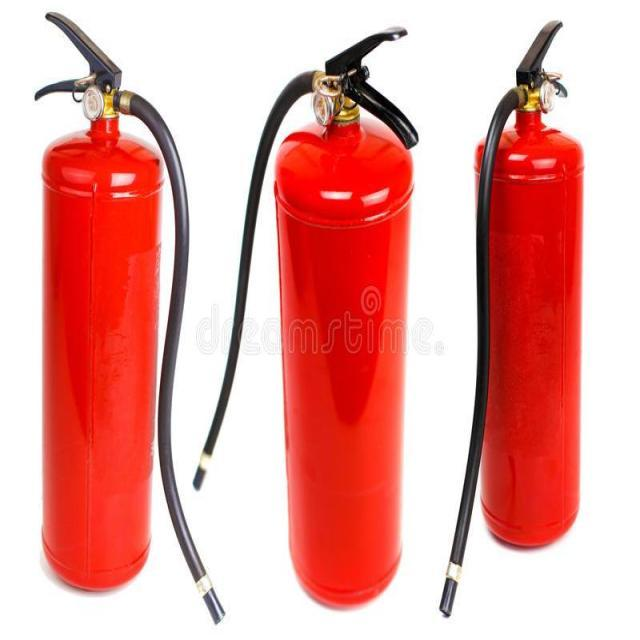fire_extinguisher: (186, 18, 422, 614), (30, 6, 226, 628), (434, 13, 588, 620)
